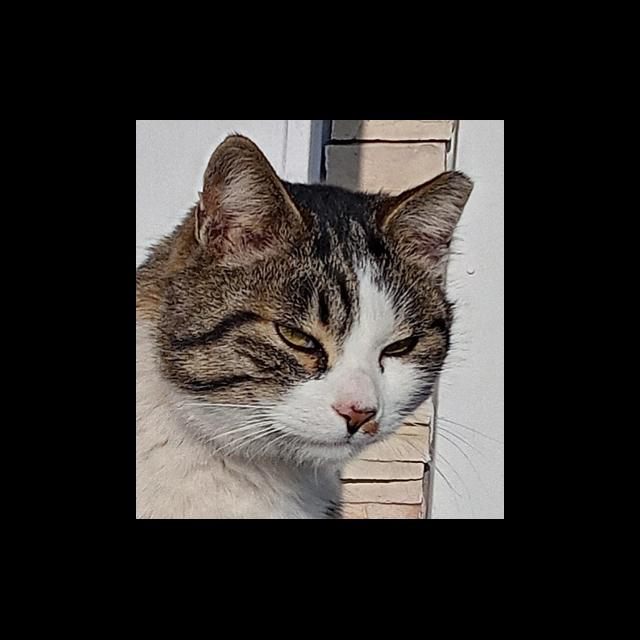animals: (160, 129, 481, 475)
